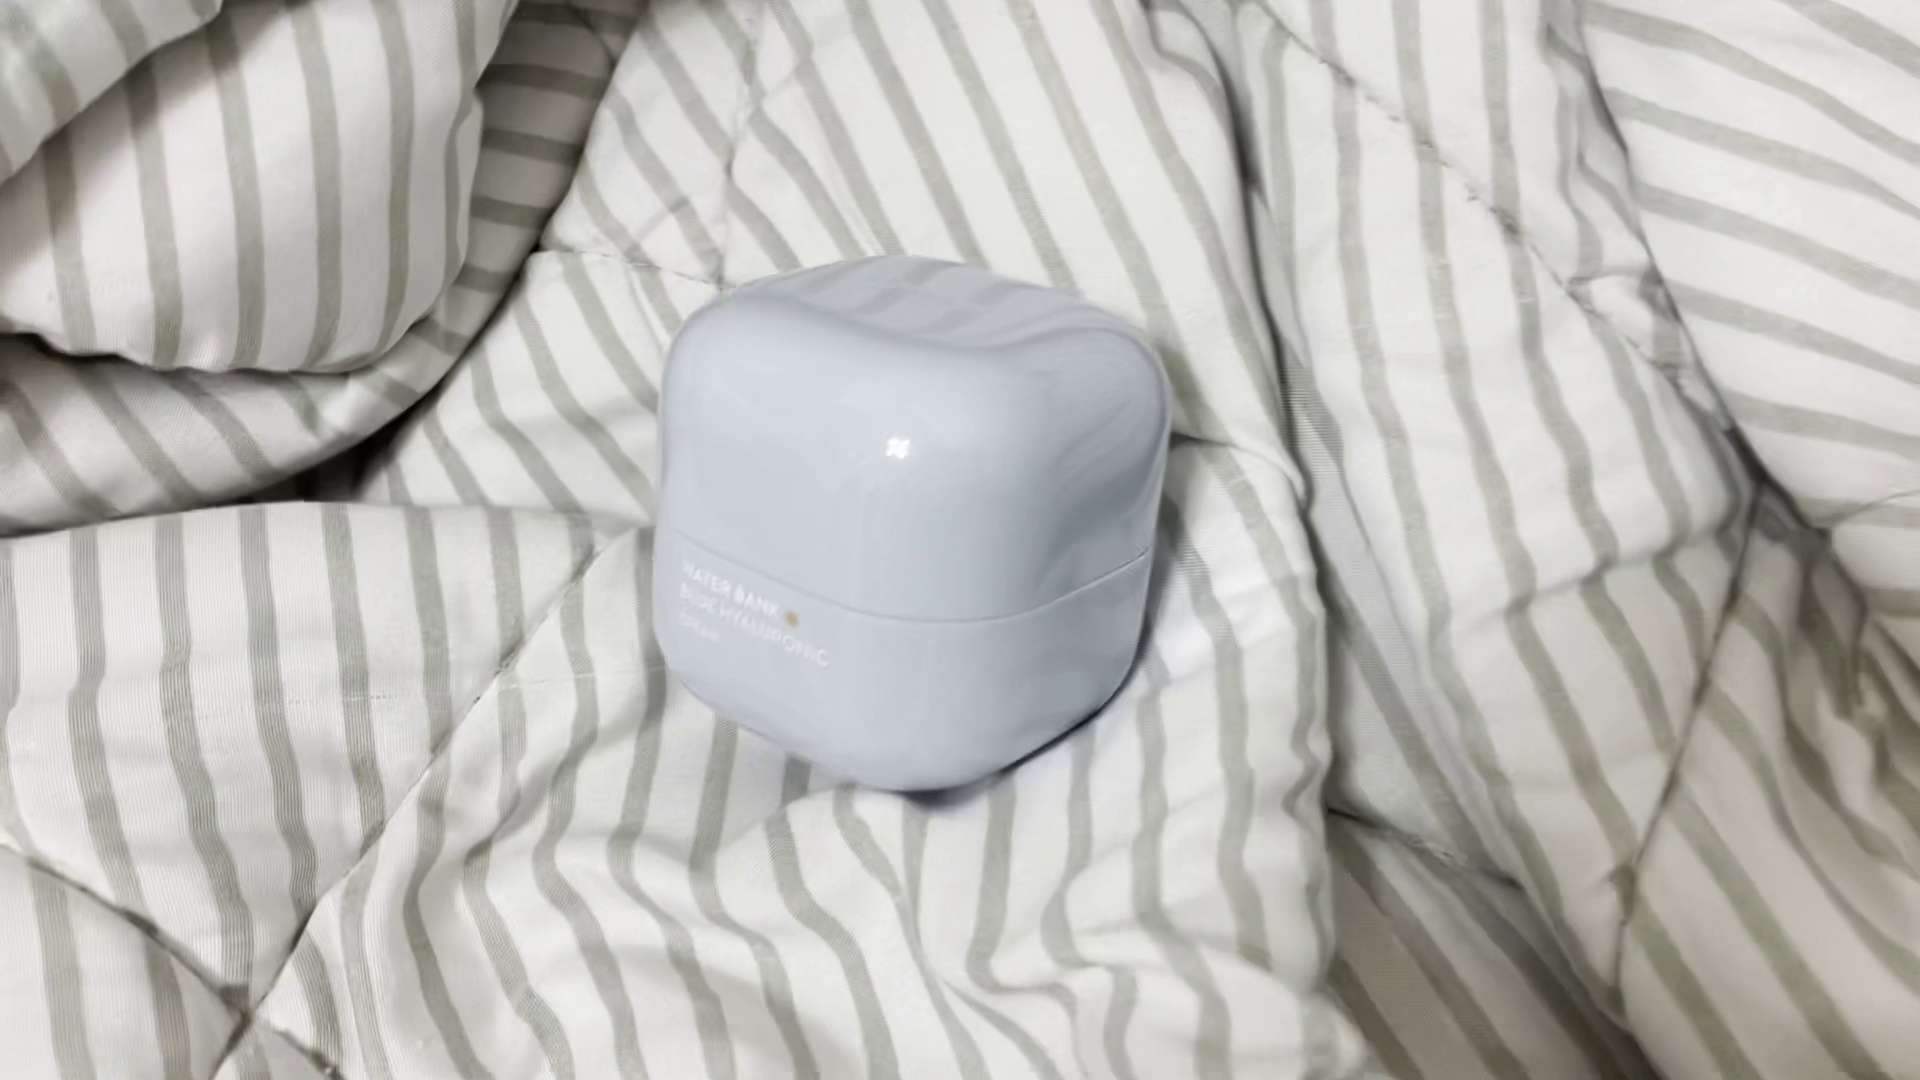cream: (651, 255, 1174, 794)
